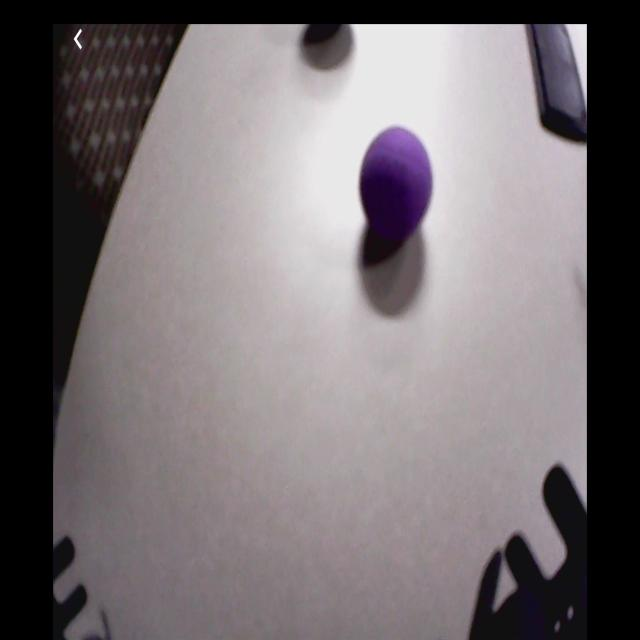ball: (358, 114, 436, 249)
